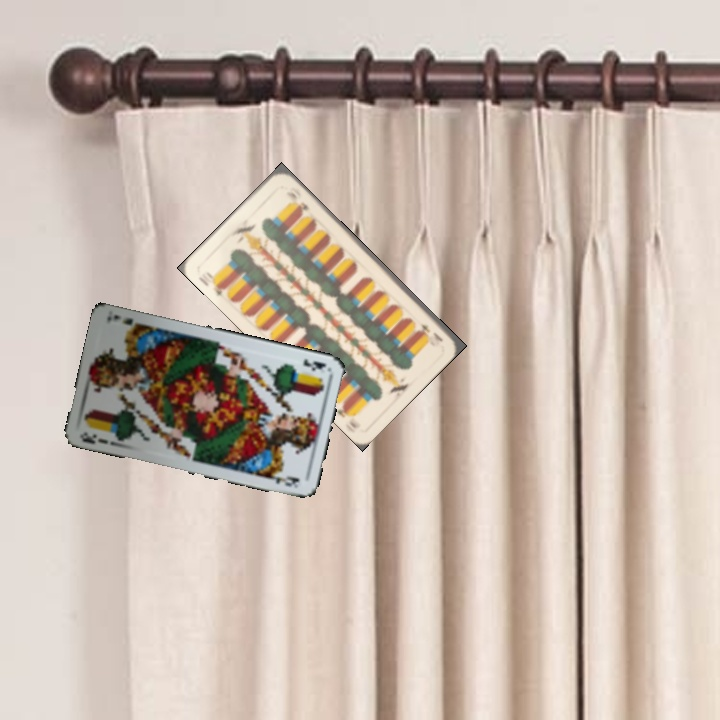E10: (194, 272, 229, 298), (416, 319, 446, 344)
EK: (77, 427, 110, 447), (299, 355, 328, 373)
